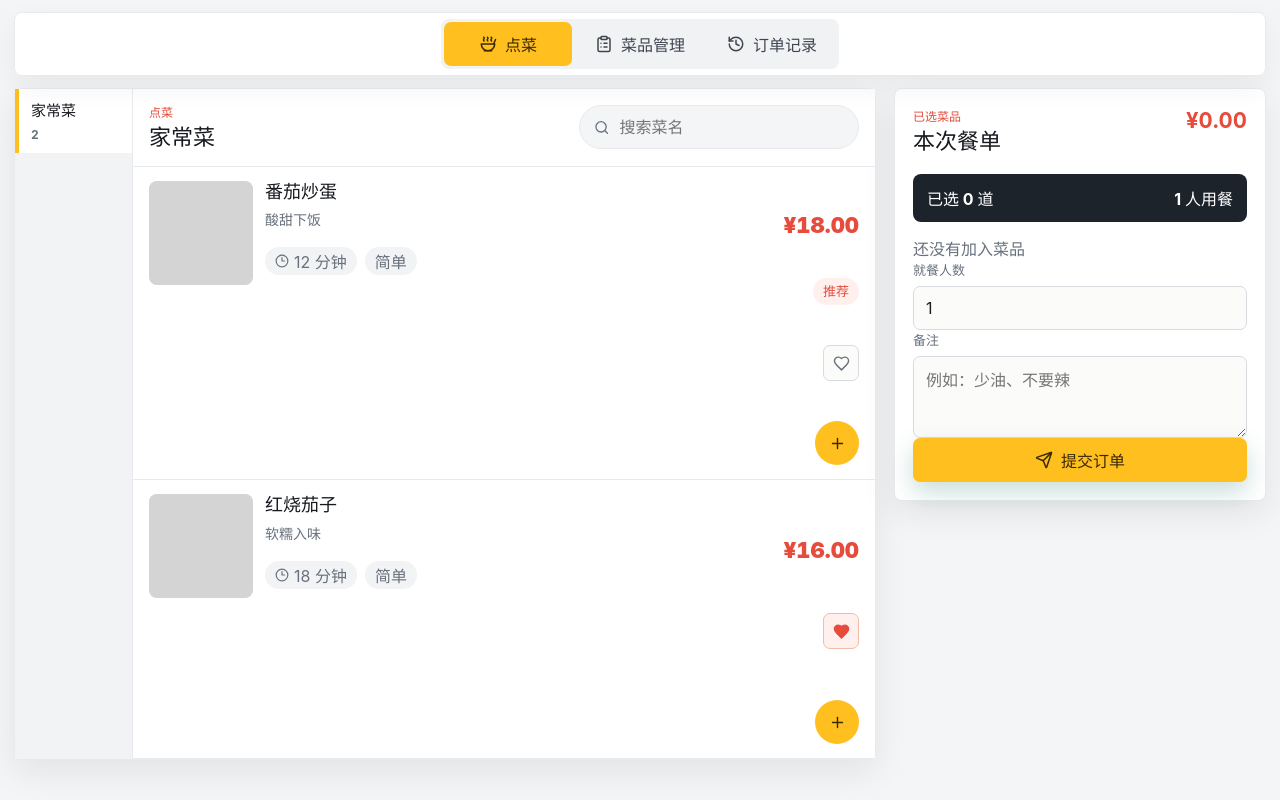
Test: App › shows spending stats on the order history tab
The image size is (1280, 800).
Expected: the text "番茄炒蛋" is shown, [265,180,337,202]
Click the button "订单记录": (772,44) [708,22,836,66]
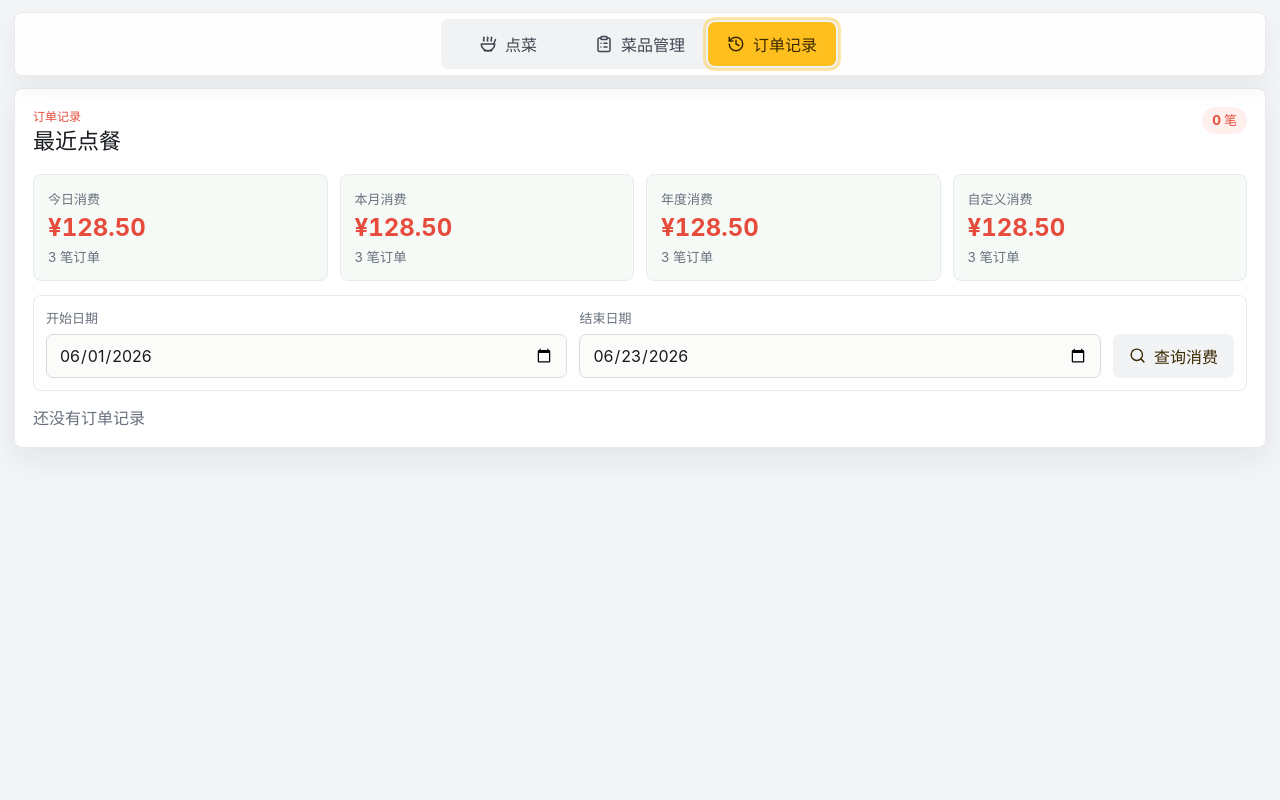
Result: the text "今日消费" is shown at [48,190,100,206]
Result: the text "本月消费" is shown at [354,190,406,206]
Result: the text "年度消费" is shown at [661,190,713,206]
